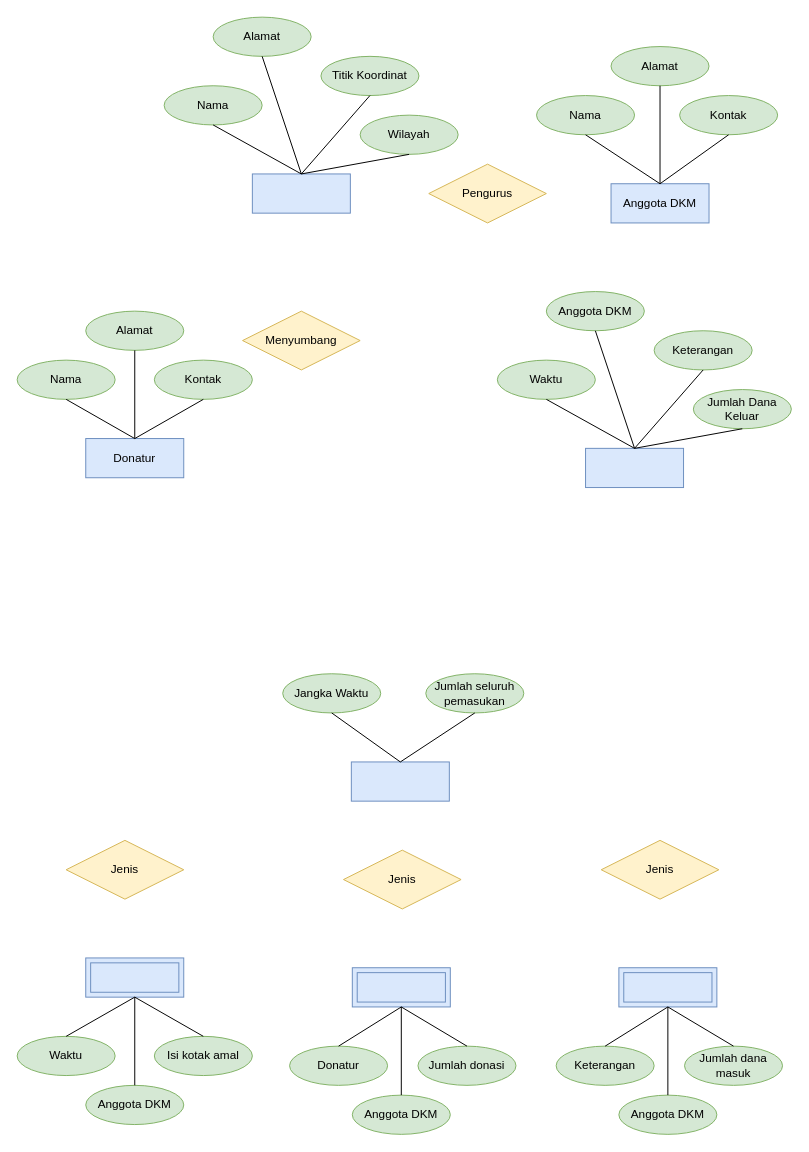
Image size: 809x1152. Some labels were removed from this diagram. The shapes that lost their labels are listed below. From the top down, each one's box as (x1, y1, x2, y2) in pixels, then its label:
(251, 173, 350, 213): Masjid
(585, 447, 684, 488): Pengelaran
(350, 761, 449, 801): Pemasukan
(85, 957, 184, 997): Pengambilan isi kotak amal
(351, 967, 450, 1007): Donasi
(618, 967, 717, 1007): Lainnya
